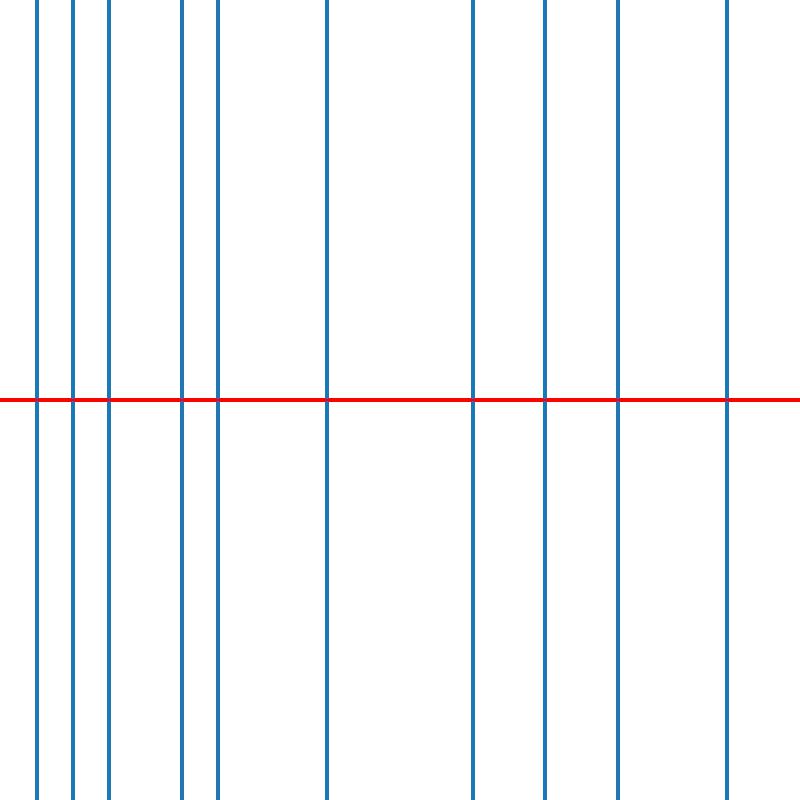root: (32, 396, 40, 404), (541, 396, 549, 404), (323, 396, 330, 404), (614, 396, 621, 404), (105, 396, 112, 404), (178, 396, 185, 404), (69, 396, 76, 404), (214, 396, 221, 404), (469, 396, 476, 404), (723, 396, 730, 404)
